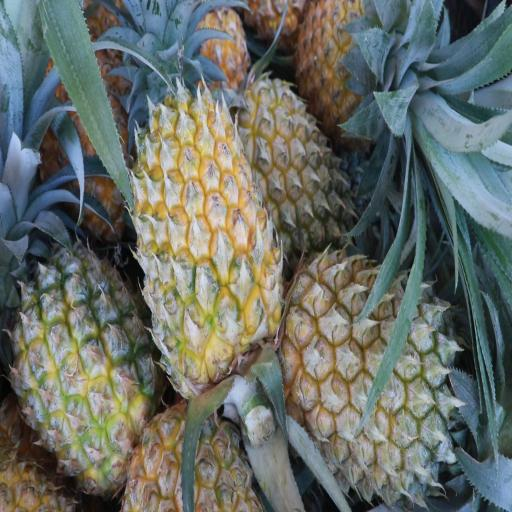Pineapple - v8 v1: (130, 89, 278, 386), (17, 234, 154, 478), (298, 0, 393, 131)
